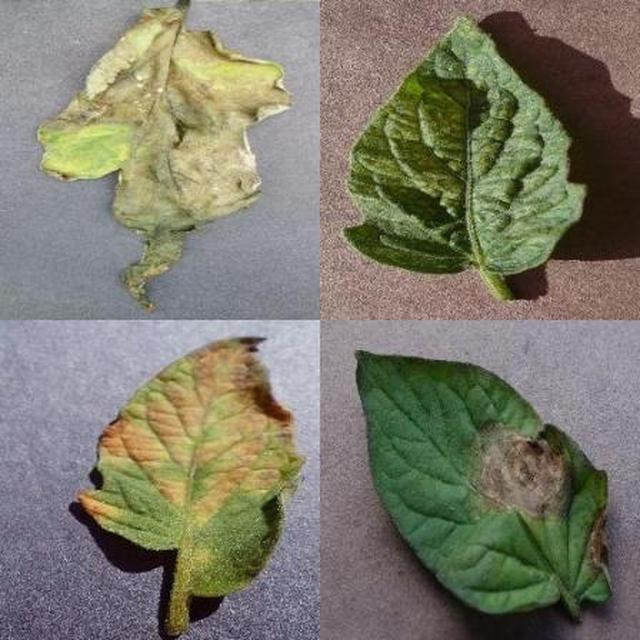Late Blight Leaf: (235, 209, 640, 640)
